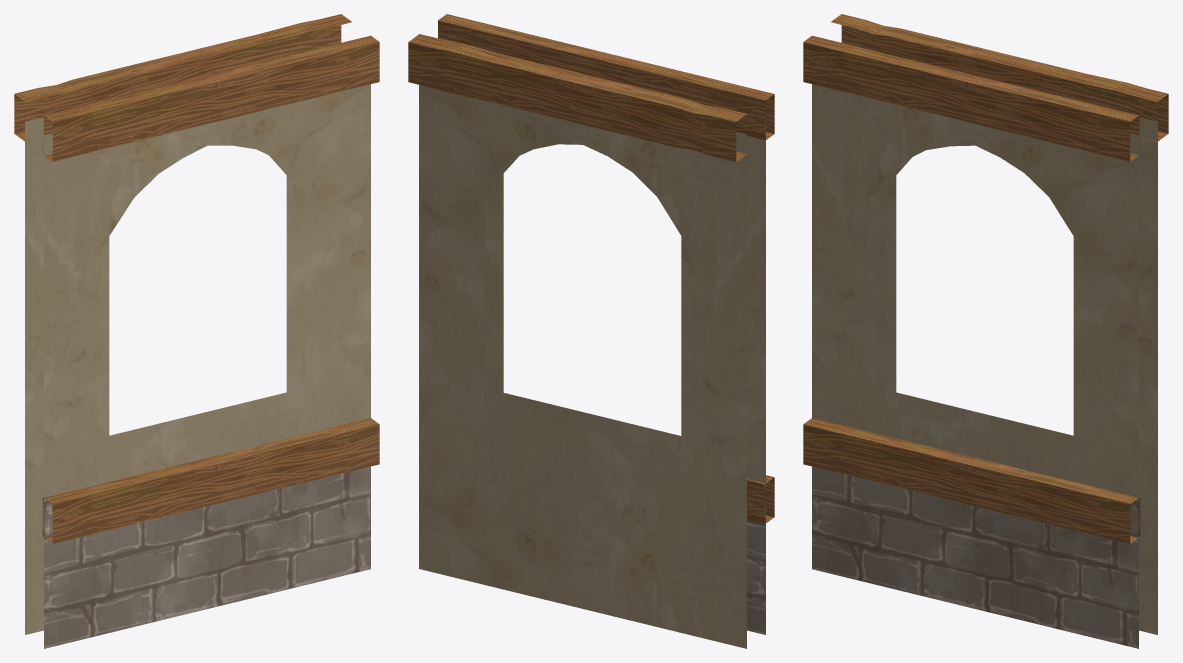
File: wall_plaster_window.glb
3 views of the same model, side by side, from view 1: azimuth 30°, elevation 25°; view 2: azimuth 150°, elevation 25°; view 3: azimuth 330°, elevation 25° (orthographic).
Parts seen in each view (by area): view 1: Wall_Plaster_Window_Wide_Round; view 2: Wall_Plaster_Window_Wide_Round; view 3: Wall_Plaster_Window_Wide_Round.
Boxes of the visible parts, bbox=[...] form: Wall_Plaster_Window_Wide_Round: bbox=[14, 14, 379, 648]; Wall_Plaster_Window_Wide_Round: bbox=[408, 14, 774, 648]; Wall_Plaster_Window_Wide_Round: bbox=[803, 14, 1168, 648].
Bounding box in the file's own units: 2 × 3.12 × 0.4064.
3 materials, 3 textured.
